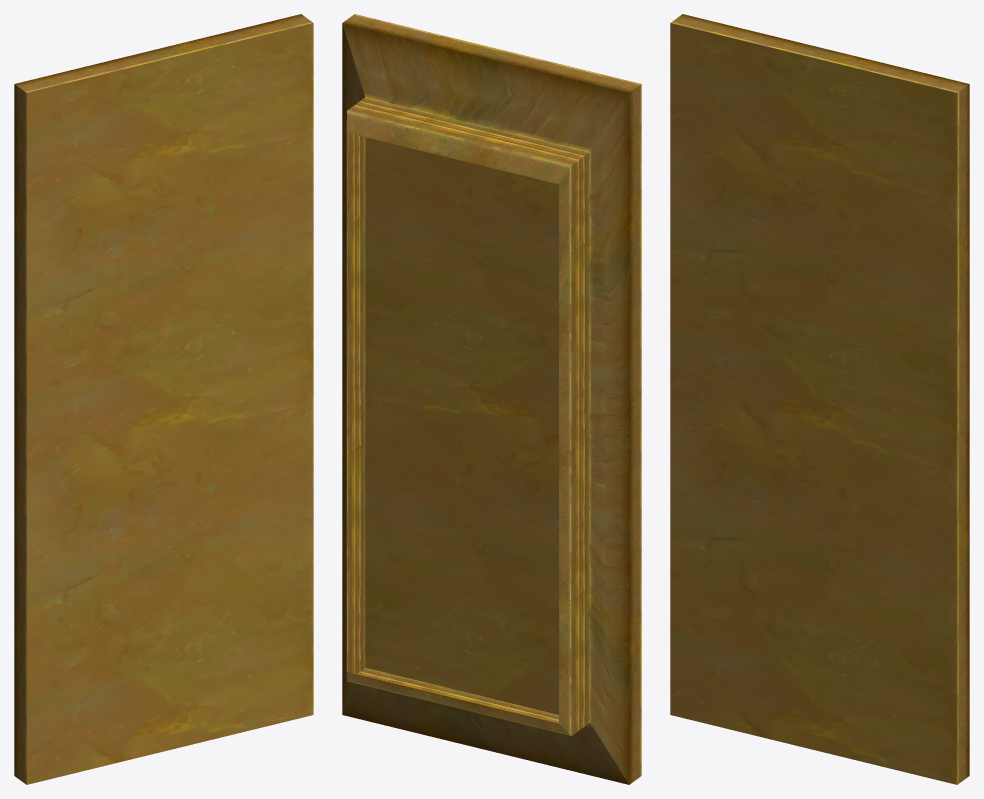
File: juqing_fuben_237_zhuzi_01.obj
3 renders of one model, left to right at view 1: azimuth 30°, elevation 25°; view 2: azimuth 150°, elevation 25°; view 3: azimuth 330°, elevation 25°, orthographic.
Parts seen in each view (by area): view 1: Box04; view 2: Box04; view 3: Box04.
Part boxes in pixels (x1=…): Box04: x1=14, y1=14, x2=313, y2=784; Box04: x1=342, y1=14, x2=641, y2=784; Box04: x1=670, y1=14, x2=969, y2=784.
Size of the model in its own units: 156 by 359 by 42.7.
1 material, 1 textured.
